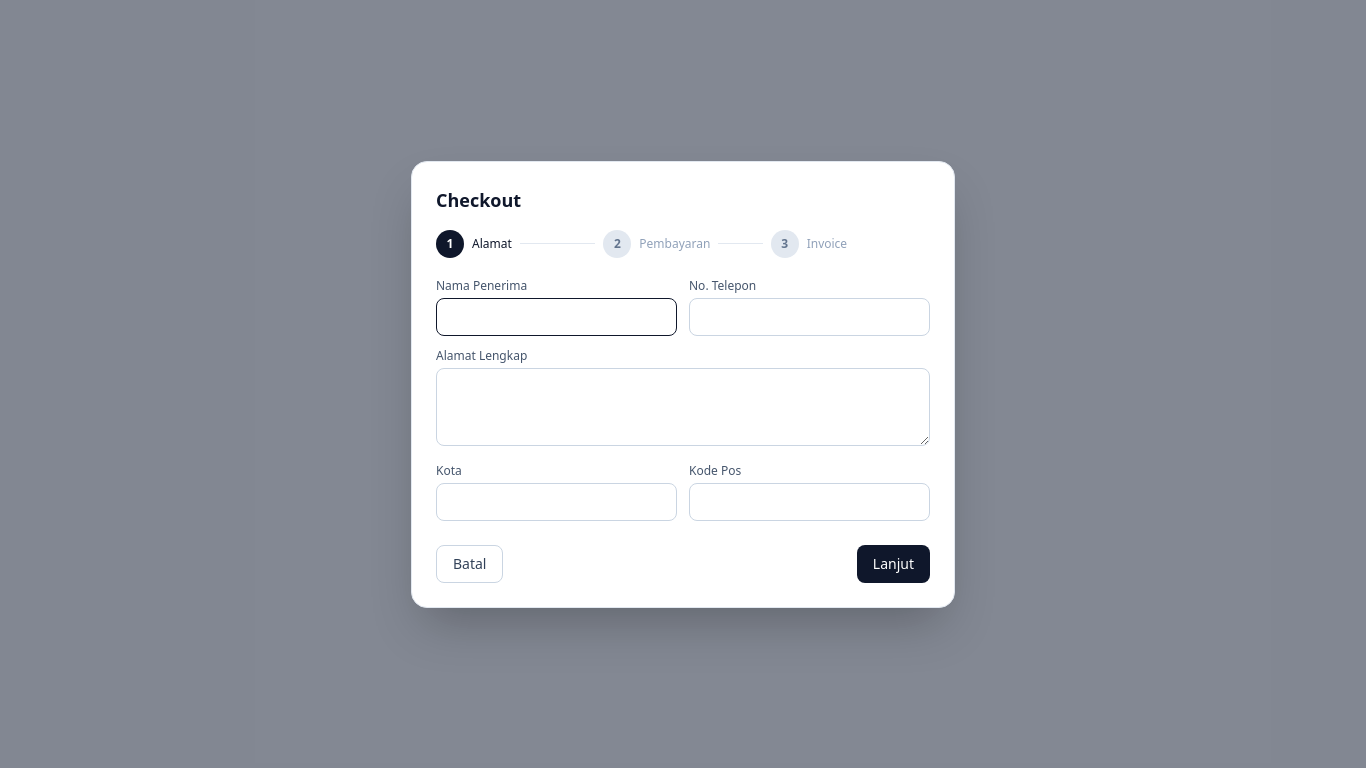
Test case: CheckoutModal (wizard 3 langkah) › melanjutkan ke pemilihan metode pembayaran saat alamat valid
Type "Ian Rafisyah" into the field labelled "Nama Penerima" at (556, 316), box [436,298,677,336]
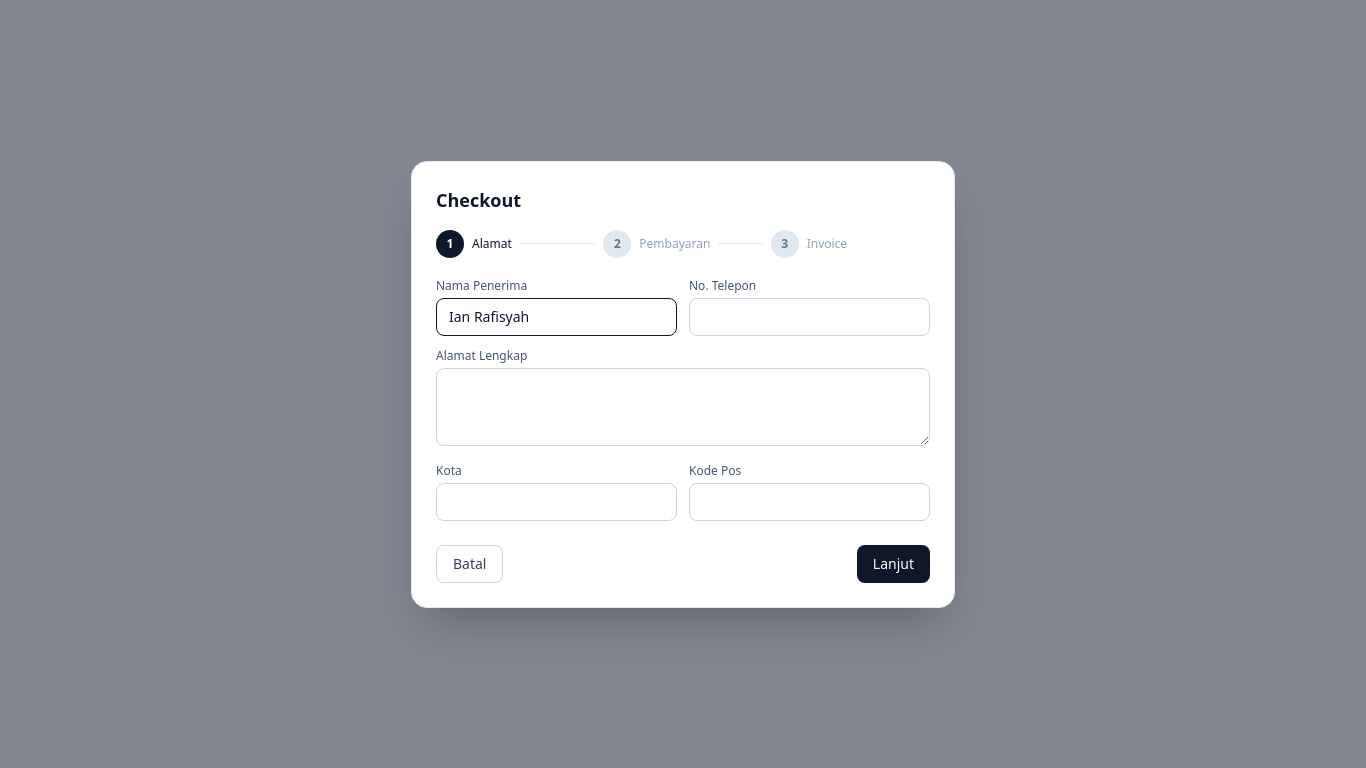
Type "081234567890" into the field labelled "No. Telepon" at (810, 316), box [689,298,930,336]
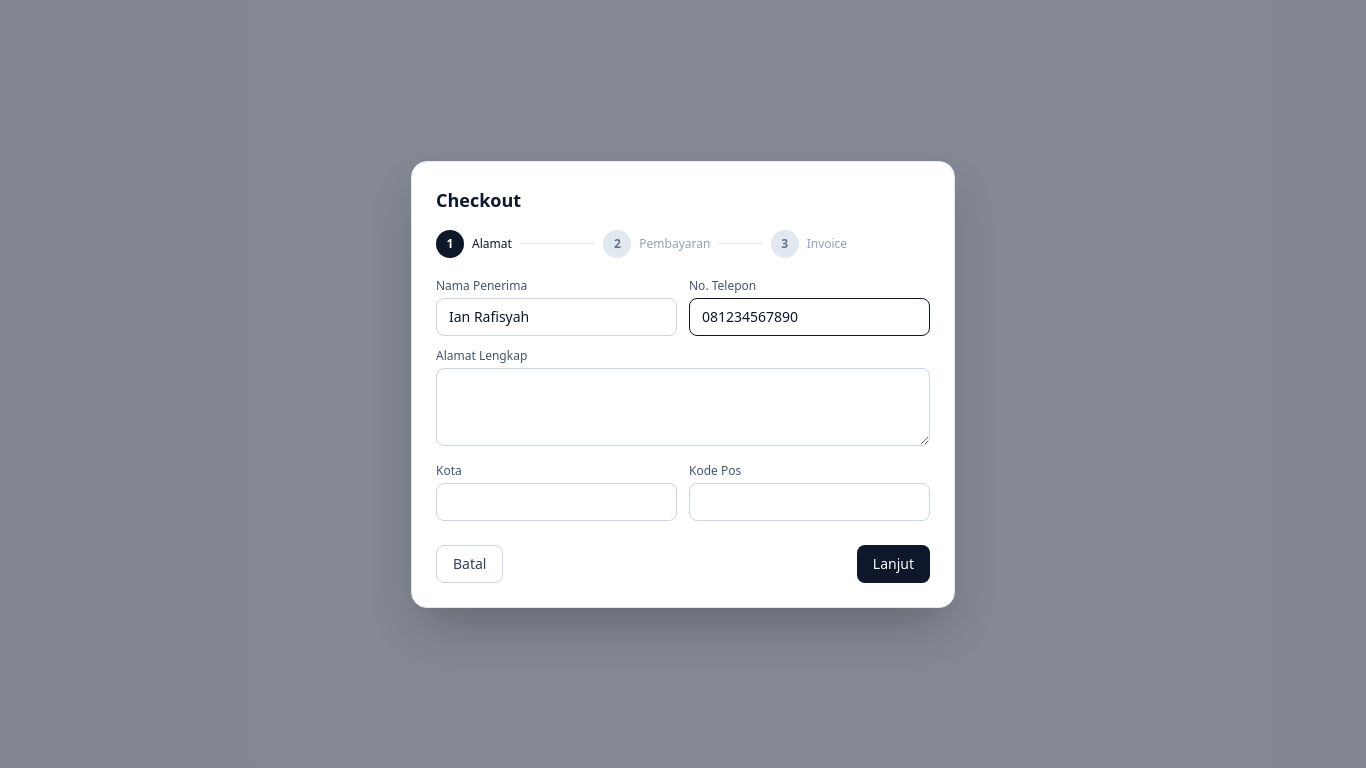
Type "Jl. Merdeka No. 45, Kelurahan Sukamaju" into the text box labelled "Alamat Lengkap" at (683, 406), box [436,368,930,446]
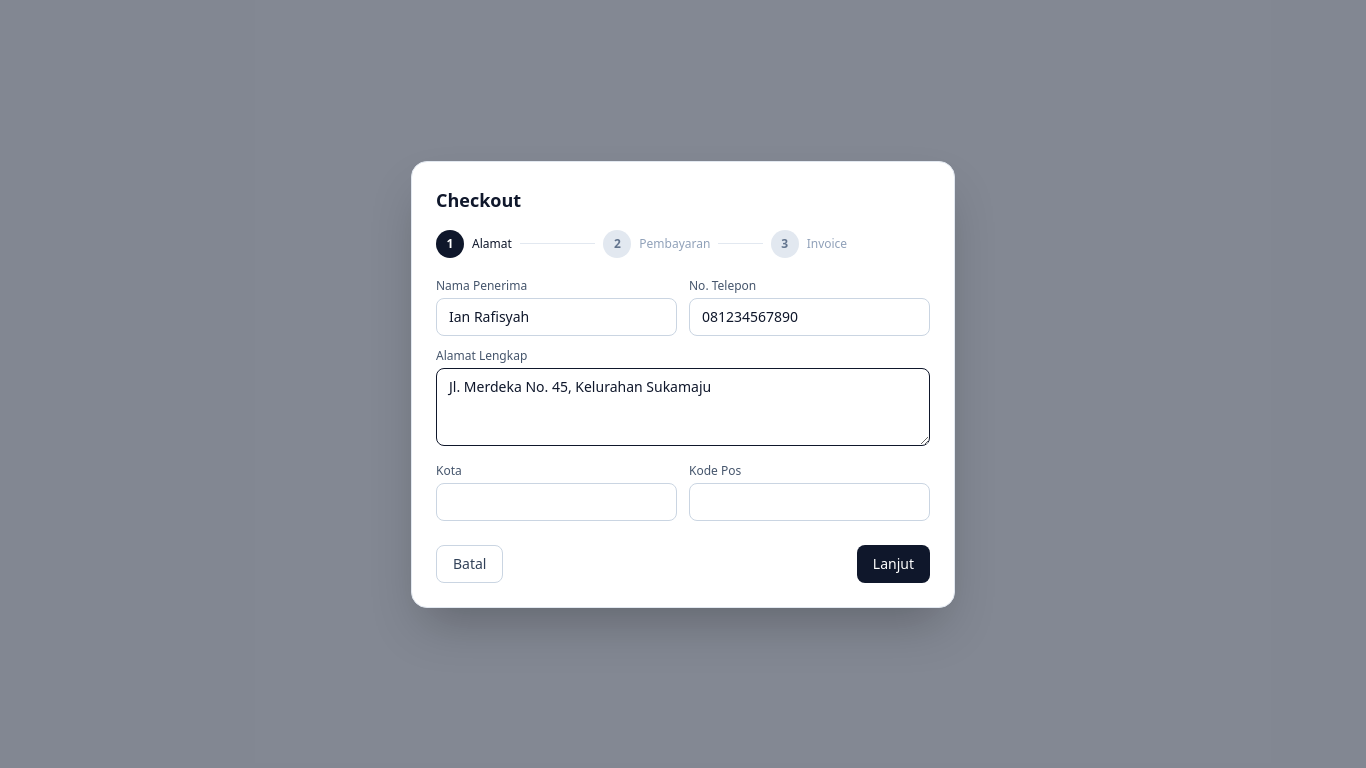
Type "Bandung" into the field labelled "Kota" at (556, 502), box [436,482,677,520]
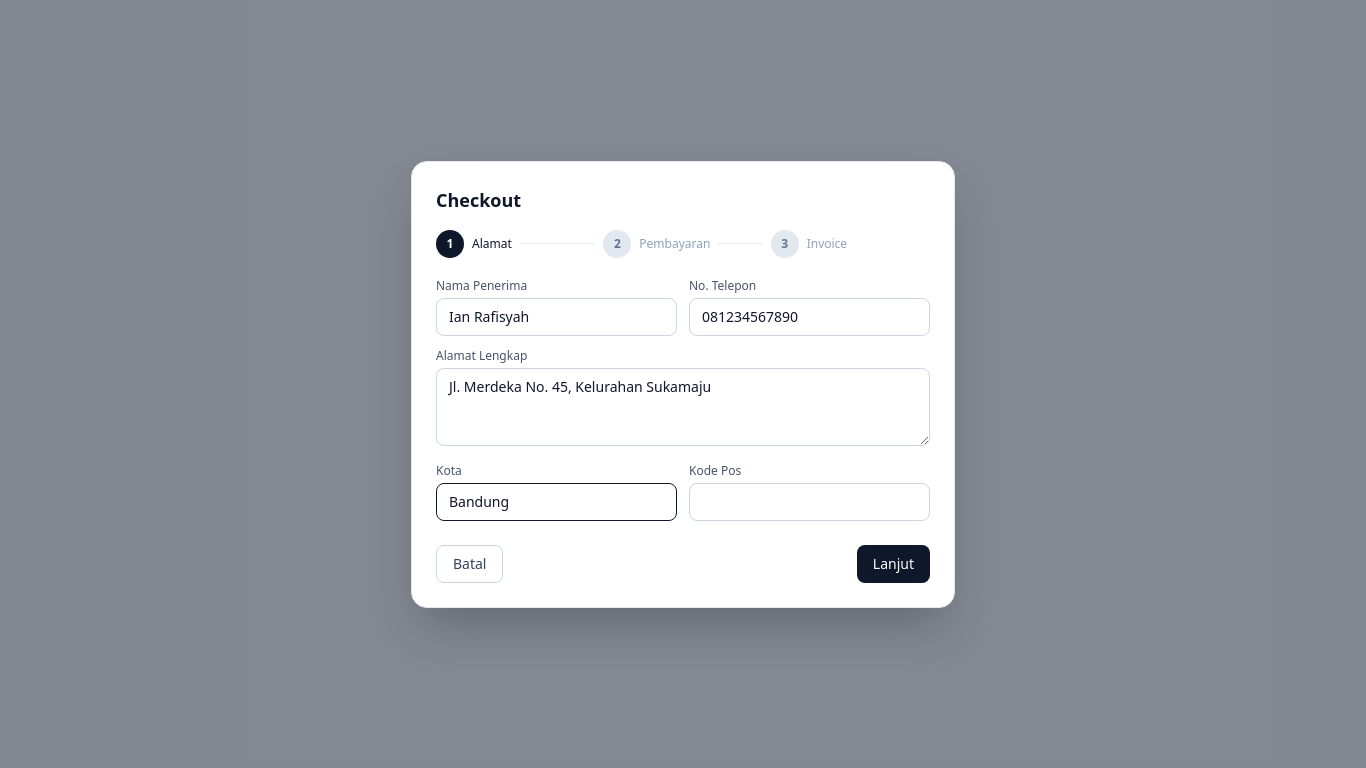
Type "40123" into the field labelled "Kode Pos" at (810, 502), box [689,482,930,520]
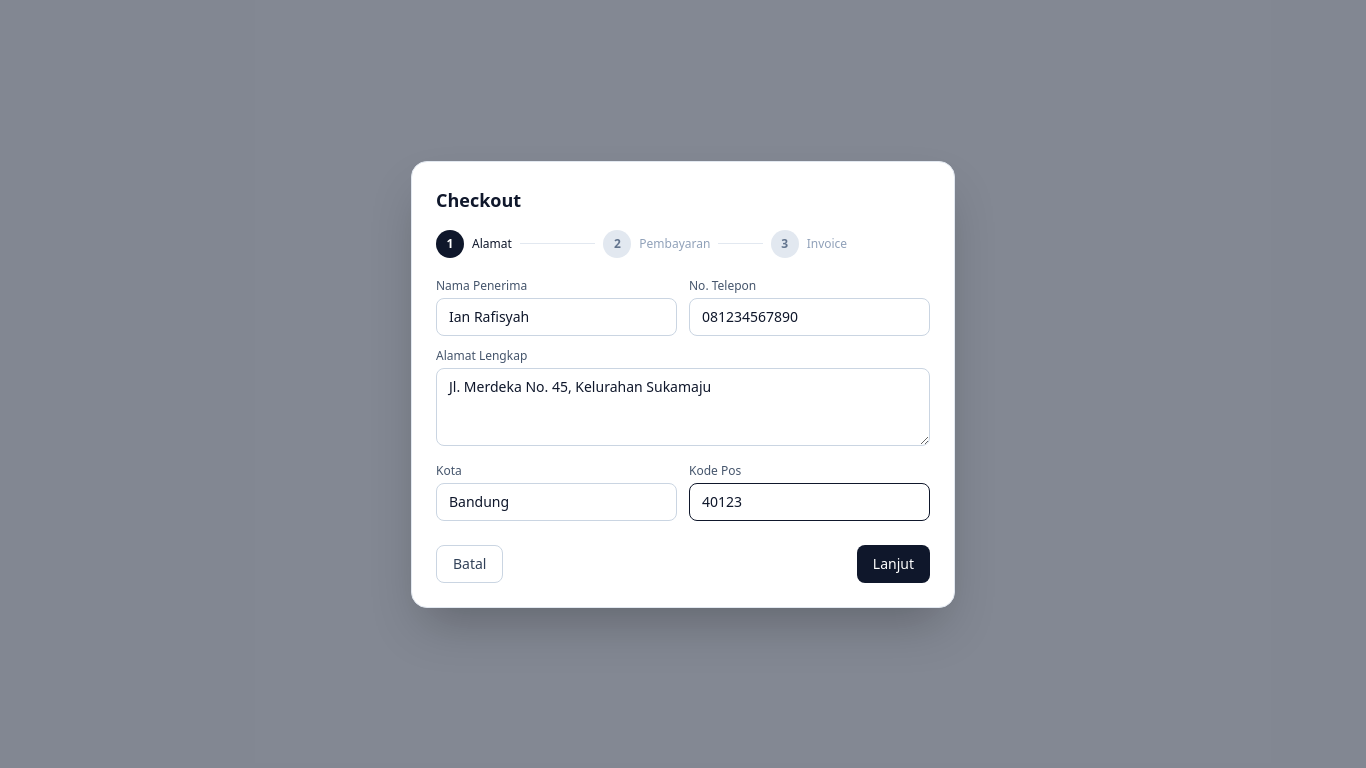
Click the button "Lanjut" at (893, 564), box [857,544,930,582]
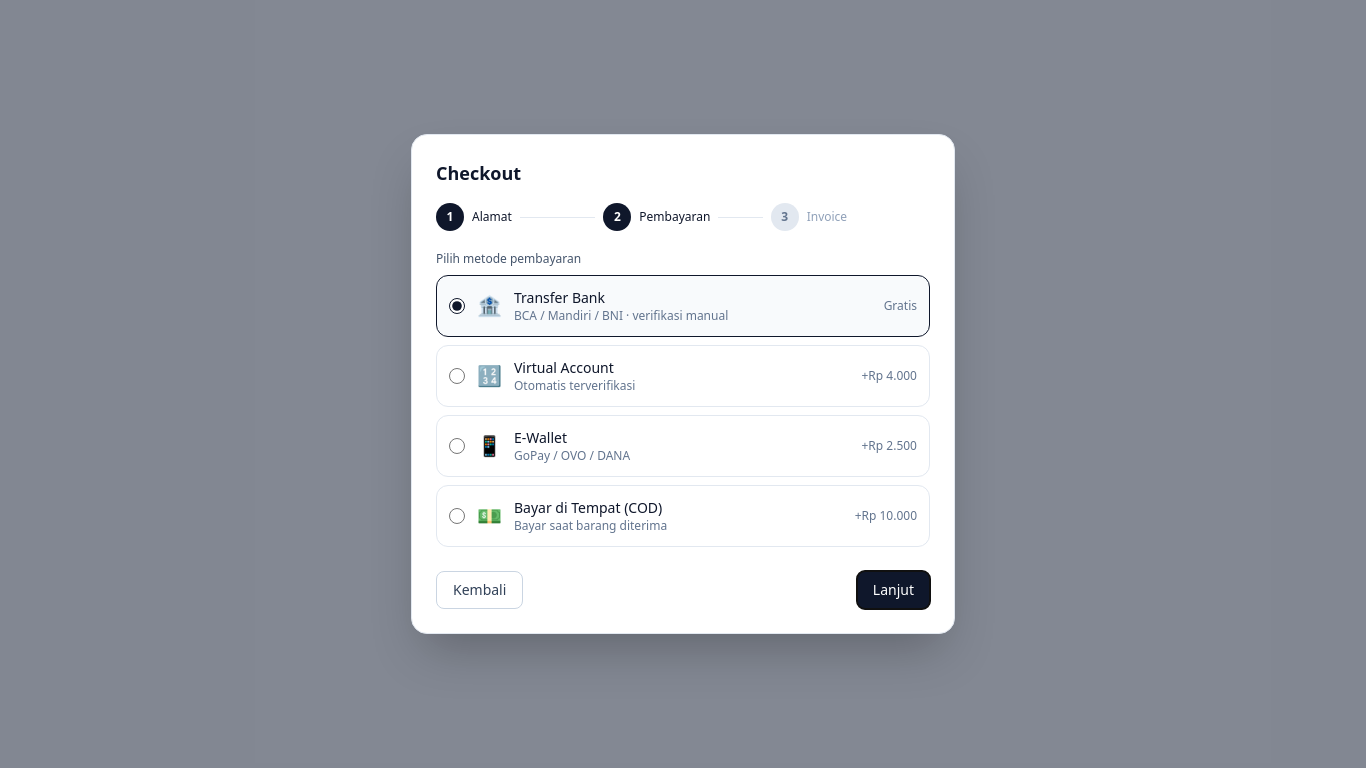
Expected: the text "Pilih metode pembayaran" is shown, [436,251,581,267]
Expected: the radio button labelled "Transfer Bank" is checked, [449,298,465,314]
